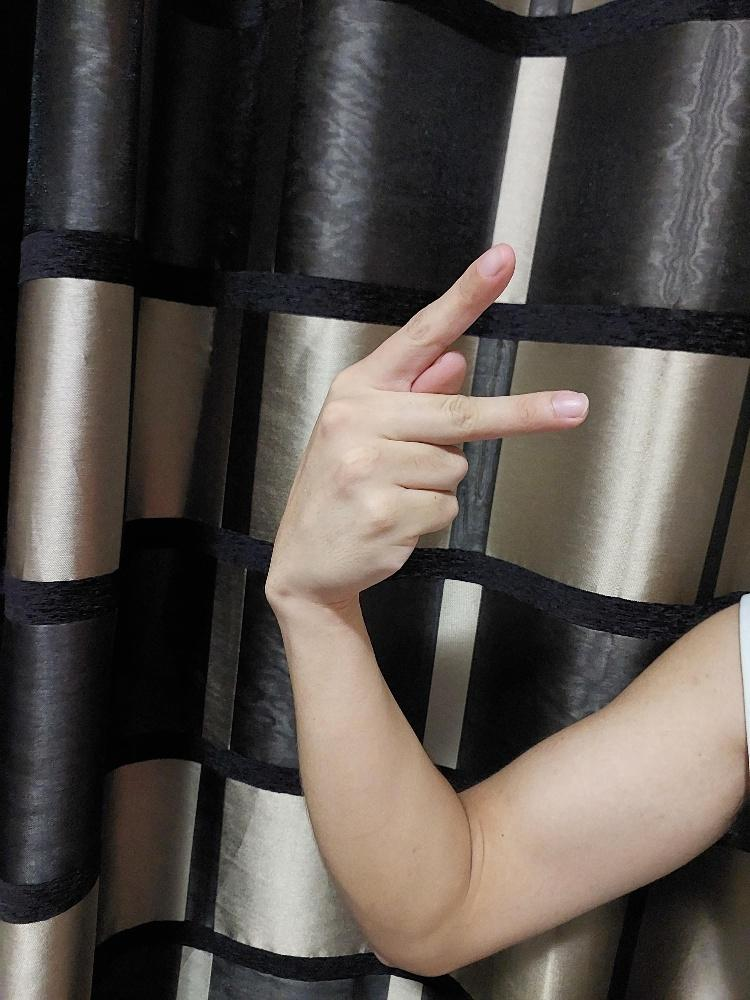k: (261, 239, 592, 607)
